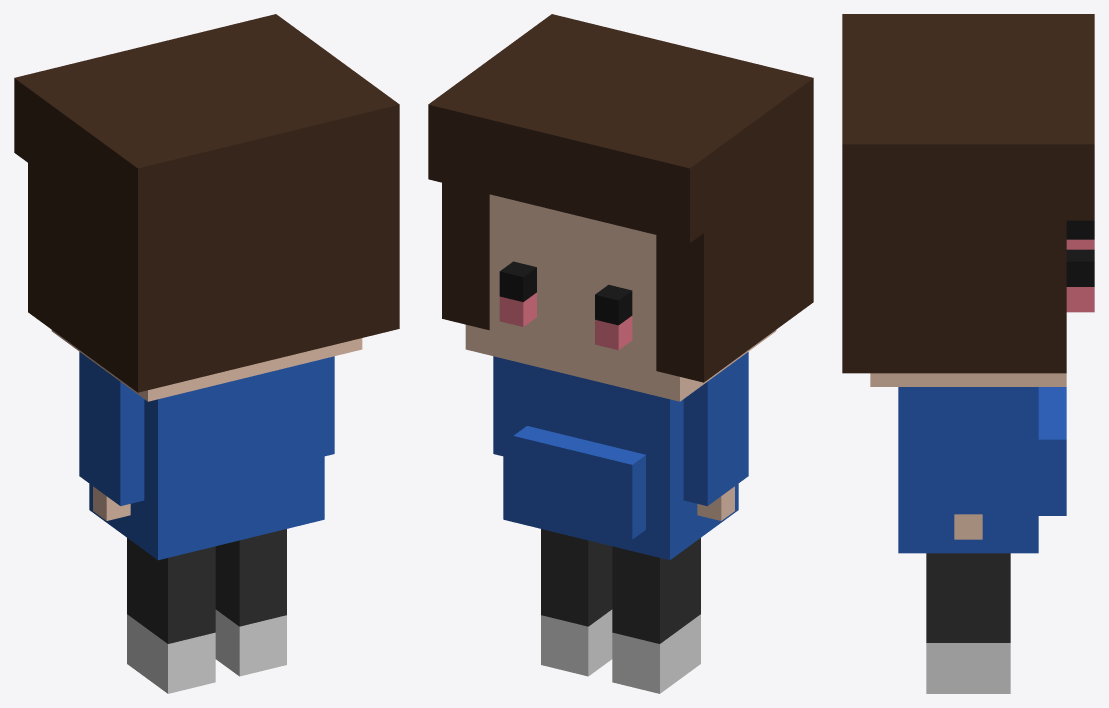
The model's file is character.gltf.
3 renders of one model, left to right at view 1: azimuth 30°, elevation 25°; view 2: azimuth 150°, elevation 25°; view 3: azimuth 270°, elevation 25°, orthographic. The views are drawn at different scales.
Visible parts, largest first — view 1: Layer.1; view 2: Layer.1; view 3: Layer.1.
Part boxes in pixels (left/top/right/bottom): Layer.1: left=14, top=14, right=399, bottom=693; Layer.1: left=428, top=14, right=813, bottom=693; Layer.1: left=842, top=14, right=1094, bottom=693.
Bounding box in the file's own units: 11 × 23 × 9.
1 material, 1 textured.
